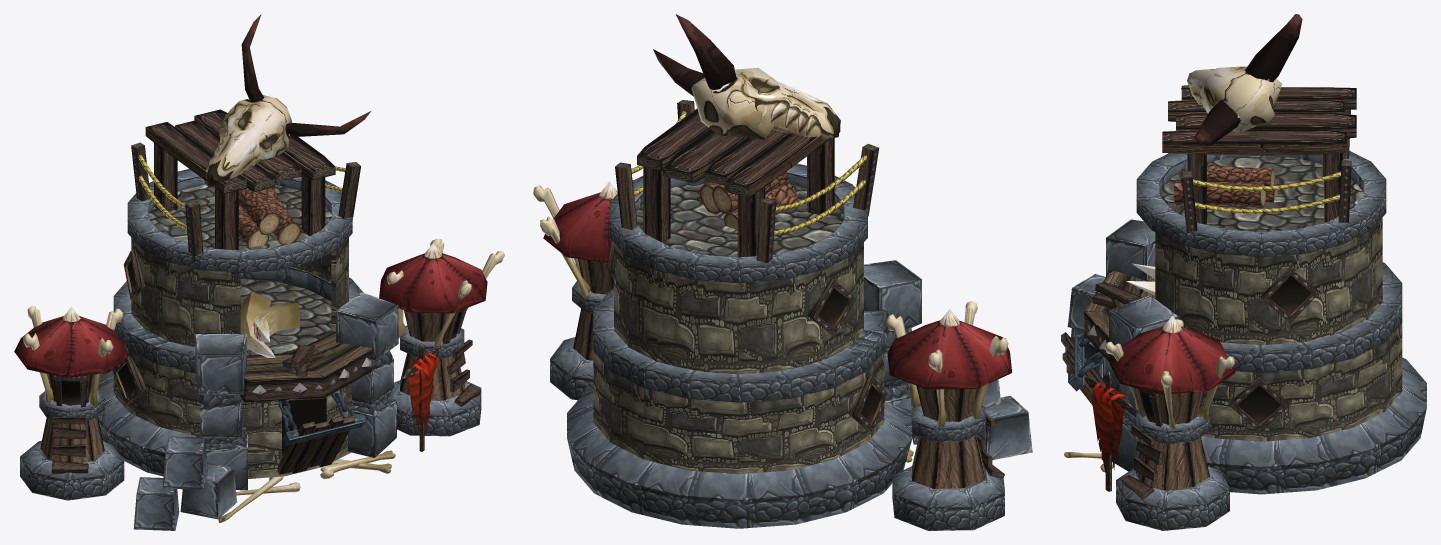
Rendered from Orc_construction_town_hall_3.FBX.
3 views of the same model, side by side, from view 1: azimuth 30°, elevation 25°; view 2: azimuth 150°, elevation 25°; view 3: azimuth 270°, elevation 25° (orthographic). The views are drawn at different scales.
Parts seen in each view (by area): view 1: column002, wood_table013, wall_up, build003, ceiling003 (×2), vertebra003, block, roofing006, awning_tower004, awning_tower005, foundation008, foundation007 (+19 smaller); view 2: column002, wall_up, build003, wood_table013, vertebra003, foundation008, awning_tower005, ceiling003, Wood_wall008, awning_tower004, block, foundation007 (+11 smaller); view 3: column002, wall_up, build003, wood_table013, vertebra003, awning_tower004, foundation007, ceiling003, Wood_wall007, trunk014, flag001, roofing006 (+15 smaller).
Boxes of the visible parts, x1,y1,x2,y2 form: column002: (98,169,398,490); wood_table013: (145,109,335,250); wall_up: (131,238,348,347); build003: (113,344,352,478); ceiling003 (×2): (148,184,334,355); vertebra003: (206,14,370,187); block: (133,436,236,530); roofing006: (240,331,373,402); awning_tower004: (379,243,487,313); awning_tower005: (14,306,128,377); foundation008: (20,388,124,500); foundation007: (391,325,481,436); column002: (567,163,921,528); wall_up: (614,242,863,374); build003: (593,351,884,474); wood_table013: (637,108,840,257); vertebra003: (653,14,840,139); foundation008: (892,405,1004,530); awning_tower005: (887,309,1011,389); ceiling003: (636,180,843,257); Wood_wall008: (911,385,984,488); awning_tower004: (543,181,617,262); block: (912,379,1032,460); foundation007: (550,281,605,400); column002: (1103,151,1426,494); wall_up: (1155,218,1382,345); build003: (1201,323,1402,441); wood_table013: (1162,87,1356,224); vertebra003: (1187,14,1302,146); awning_tower004: (1109,316,1235,394); foundation007: (1116,406,1229,530); ceiling003: (1160,155,1363,231); Wood_wall007: (1136,391,1209,489); trunk014: (1174,164,1278,208); flag001: (1091,382,1127,472); roofing006: (1084,271,1155,361).
Size of the model in its own units: 7302 by 6568 by 4674.
